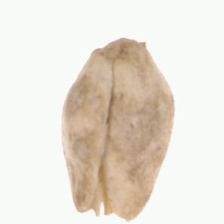L1: (74, 157, 142, 220), (91, 36, 148, 62)
L2: (60, 38, 175, 222)
